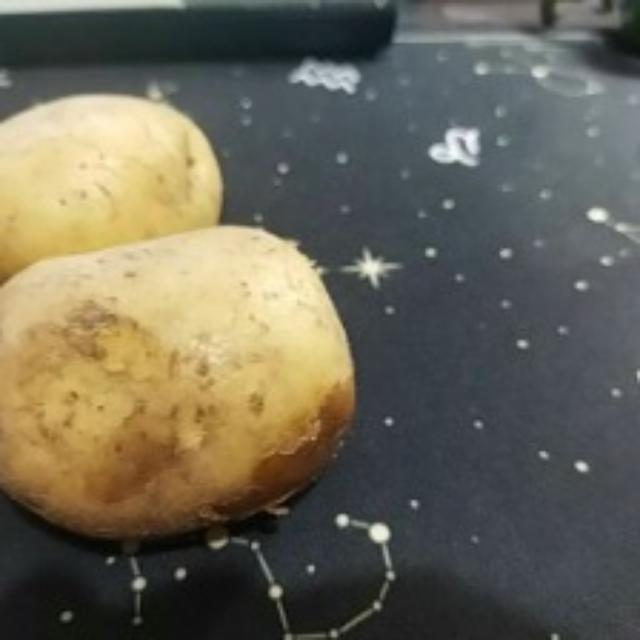Damaged potato: (1, 227, 362, 559)
Potato: (3, 90, 228, 316)
